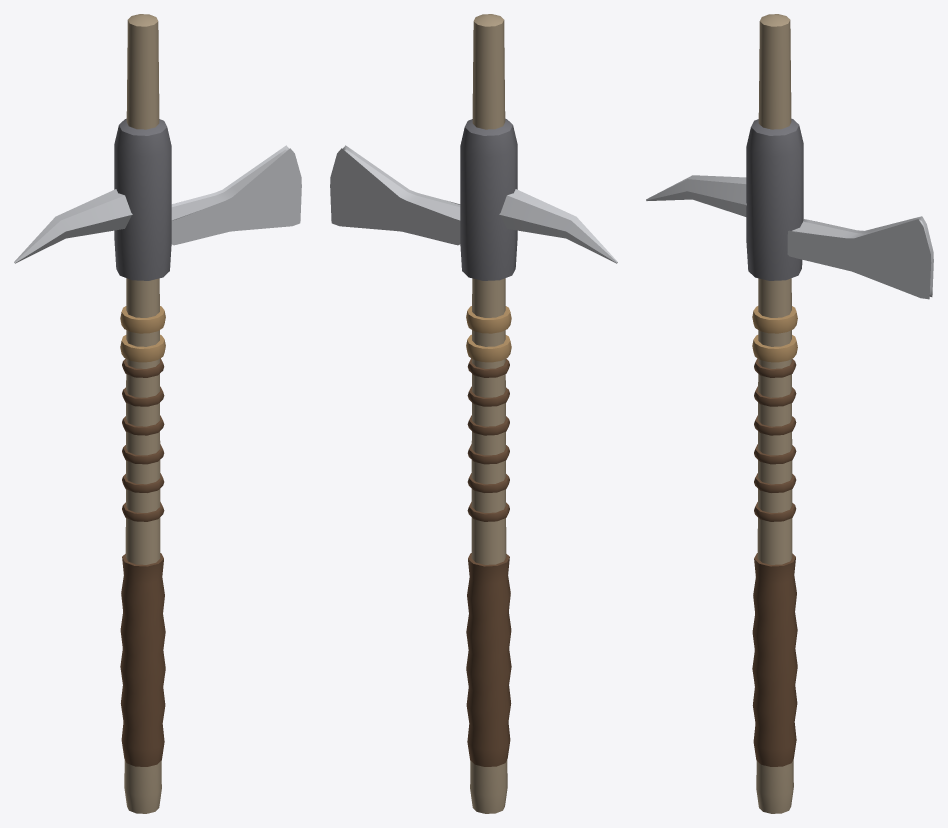
Rendered from skirmisher_axe.glb.
3 renders of one model, left to right at view 1: azimuth 30°, elevation 25°; view 2: azimuth 150°, elevation 25°; view 3: azimuth 330°, elevation 25°, orthographic.
Parts seen in each view (by area): view 1: skirmisher_axe; view 2: skirmisher_axe; view 3: skirmisher_axe.
Boxes of the visible parts, bbox=[...] form: skirmisher_axe: bbox=[14, 14, 301, 813]; skirmisher_axe: bbox=[330, 14, 617, 813]; skirmisher_axe: bbox=[646, 14, 933, 813].
Size of the model in its own units: 0.3121 by 0.825 by 0.0517.
